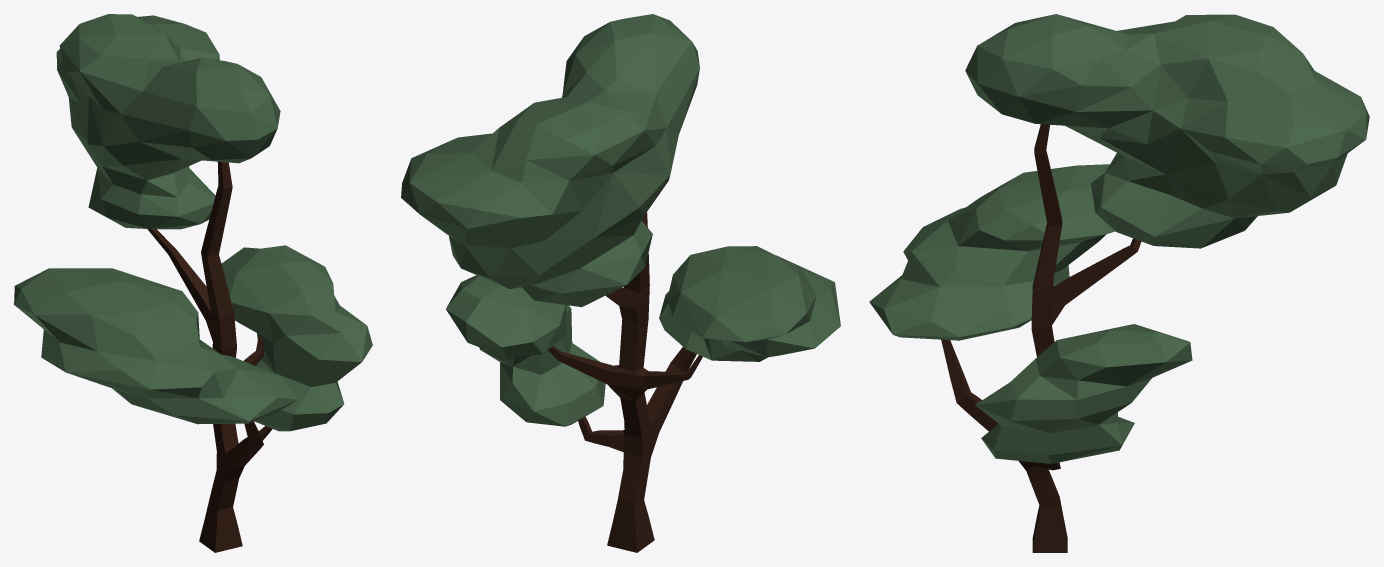
File: tree14.fbx
The picture shows the model from 3 angles, left to right: view 1: azimuth 30°, elevation 25°; view 2: azimuth 150°, elevation 25°; view 3: azimuth 270°, elevation 25°; orthographic projection. The views are drawn at different scales.
Parts seen in each view (by area): view 1: tree14_leaves, tree14_trunk; view 2: tree14_leaves, tree14_trunk; view 3: tree14_leaves, tree14_trunk.
Boxes of the visible parts, x1,y1,x2,y2 form: tree14_leaves: (14, 14, 372, 431); tree14_trunk: (147, 161, 272, 552); tree14_leaves: (401, 14, 840, 426); tree14_trunk: (548, 212, 702, 552); tree14_leaves: (869, 14, 1369, 463); tree14_trunk: (941, 124, 1141, 552).
Bounding box in the file's own units: 4.9 × 7.21 × 6.3.
